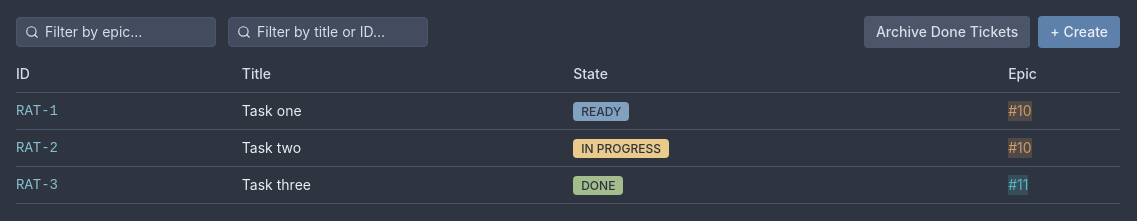
TicketsTab › should filter ticket rows by title when the title/ID query matches a title
This screenshot has width=1137, height=221.
Type "one" into the field labelled "Filter by title or ID…". click: {"x": 339, "y": 32}
box: [251,18,427,46]
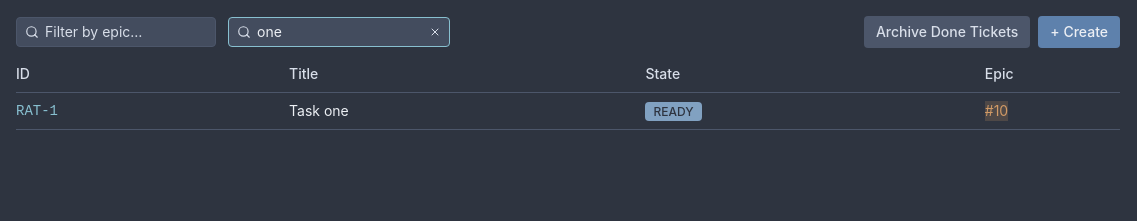
Expected: the text "RAT-1" is shown, [16,92,289,130]
Result: the text "RAT-2" is gone
Result: the text "RAT-3" is gone
